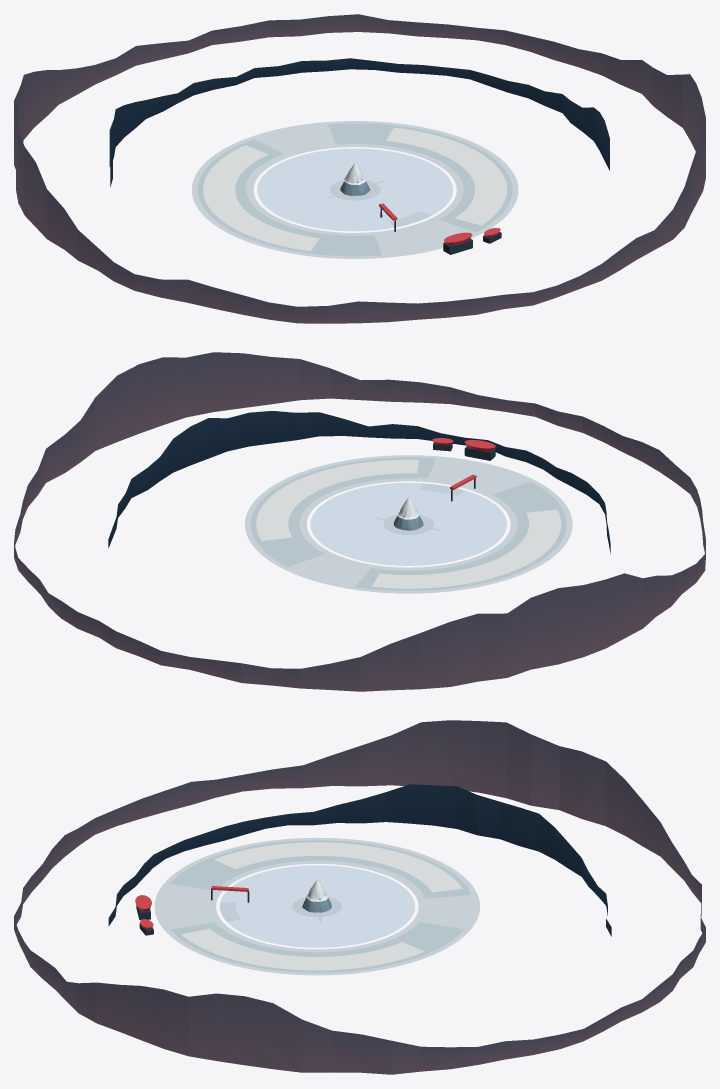
File: rowplay-venue-skierg-high.glb
3 renders of one model, top to bottom at view 1: azimuth 30°, elevation 25°; view 2: azimuth 150°, elevation 25°; view 3: azimuth 270°, elevation 25°, orthographic.
Parts seen in each view (by area): view 1: environment:skierg:horizon-far, environment:skierg:stadium-field, environment:skierg:apron, environment:skierg:horizon-mid, environment:skierg:valley-sun-2, environment:skierg:valley-sun-1, environment:skierg:valley-shadow-2, environment:skierg:valley-shadow-1, environment:skierg:valley-sun-3; view 2: environment:skierg:horizon-far, environment:skierg:stadium-field, environment:skierg:horizon-mid, environment:skierg:apron, environment:skierg:valley-sun-1, environment:skierg:valley-sun-2, environment:skierg:valley-shadow-1, environment:skierg:valley-shadow-2, environment:skierg:valley-sun-3; view 3: environment:skierg:horizon-far, environment:skierg:horizon-mid, environment:skierg:stadium-field, environment:skierg:apron, environment:skierg:valley-sun-1, environment:skierg:valley-sun-2, environment:skierg:valley-shadow-2, environment:skierg:valley-shadow-1.
Part boxes in pixels (box(x1,y1,x2,y2)): environment:skierg:horizon-far: box(14, 14, 705, 323); environment:skierg:stadium-field: box(257, 148, 452, 231); environment:skierg:apron: box(192, 121, 518, 258); environment:skierg:horizon-mid: box(109, 58, 609, 187); environment:skierg:valley-sun-2: box(386, 127, 507, 225); environment:skierg:valley-sun-1: box(203, 145, 319, 250); environment:skierg:valley-shadow-2: box(328, 123, 512, 232); environment:skierg:valley-shadow-1: box(197, 139, 381, 256); environment:skierg:valley-sun-3: box(203, 149, 257, 189); environment:skierg:horizon-far: box(14, 352, 705, 691); environment:skierg:stadium-field: box(310, 483, 506, 565); environment:skierg:horizon-mid: box(108, 411, 610, 554); environment:skierg:apron: box(245, 455, 572, 593); environment:skierg:valley-sun-1: box(372, 509, 561, 588); environment:skierg:valley-sun-2: box(256, 459, 419, 540); environment:skierg:valley-shadow-1: box(355, 481, 566, 590); environment:skierg:valley-shadow-2: box(251, 457, 435, 566); environment:skierg:valley-sun-3: box(388, 569, 484, 588); environment:skierg:horizon-far: box(14, 720, 705, 1074); environment:skierg:horizon-mid: box(108, 784, 611, 936); environment:skierg:stadium-field: box(219, 865, 414, 947); environment:skierg:apron: box(154, 837, 480, 975); environment:skierg:valley-sun-1: box(214, 842, 462, 892); environment:skierg:valley-sun-2: box(181, 928, 424, 970); environment:skierg:valley-shadow-2: box(170, 922, 464, 972); environment:skierg:valley-shadow-1: box(170, 840, 471, 898).
Size of the model in its own units: 231 by 34.39 by 234.
